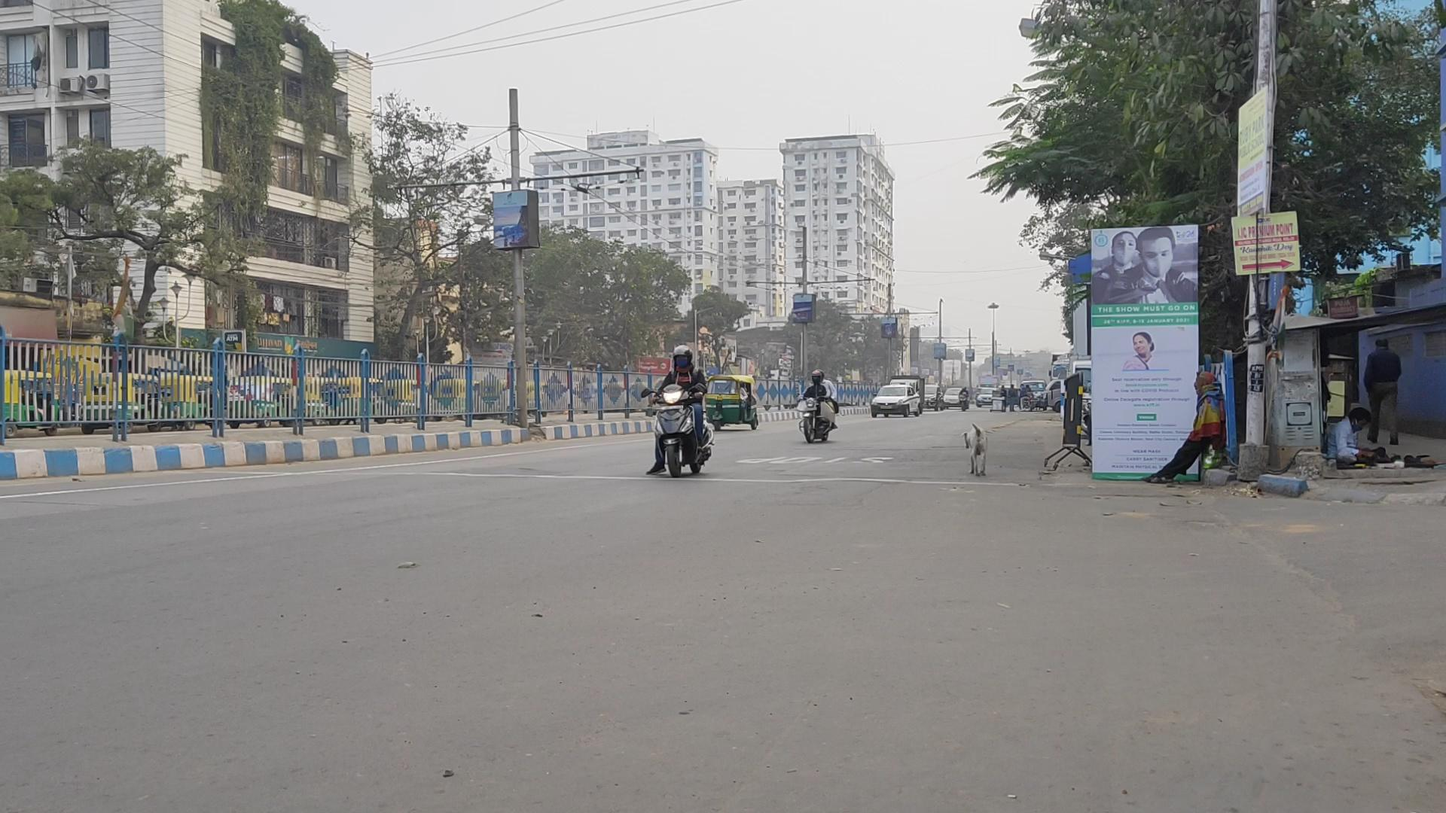Auto: (704, 374, 758, 431)
bike: (641, 345, 715, 478), (797, 370, 840, 443), (958, 385, 969, 412)
car: (871, 384, 922, 418), (1020, 379, 1048, 412), (942, 387, 970, 410), (923, 384, 945, 412), (976, 387, 999, 408)
van: (889, 376, 925, 411)
